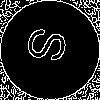S: (25, 25, 78, 68)
